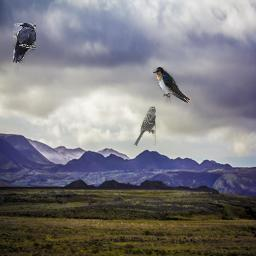Crow: (13, 23, 36, 63)
Sparrow: (134, 106, 156, 146)
Swallow: (153, 67, 193, 105)
